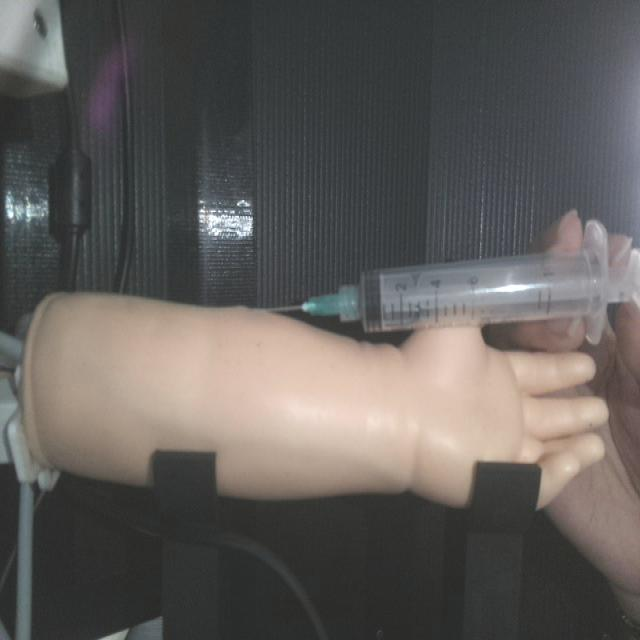Below 15 degrees: (261, 220, 638, 343)
